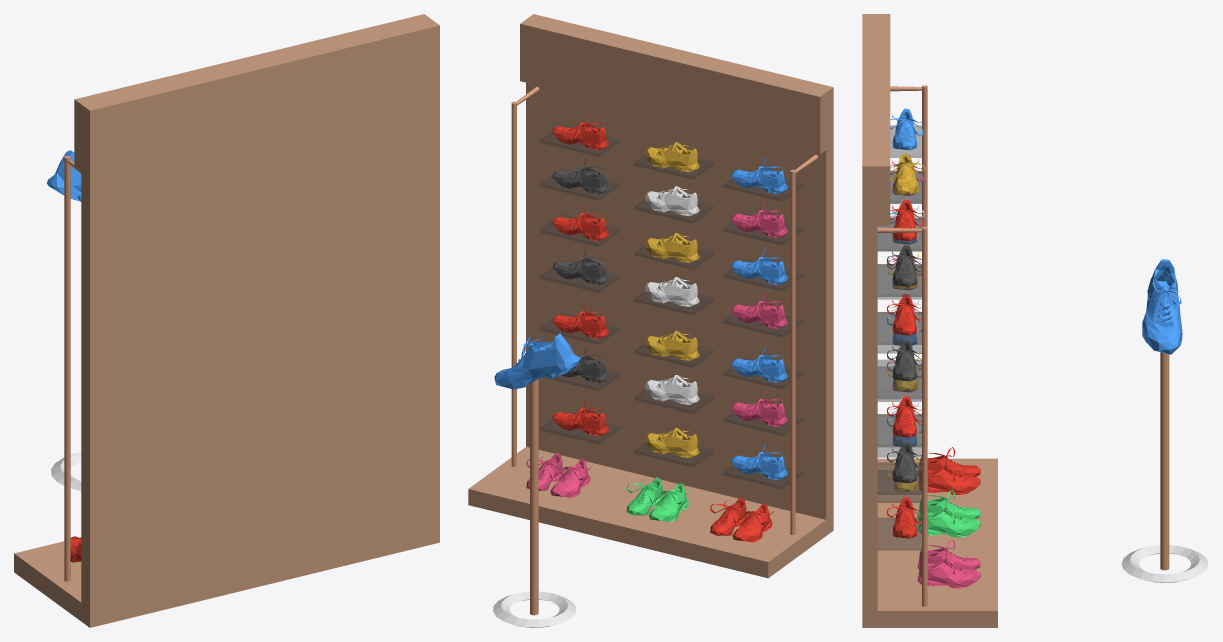
Rendered from Sports_shoes.fbx.
The picture shows the model from 3 angles, left to right: view 1: azimuth 30°, elevation 25°; view 2: azimuth 150°, elevation 25°; view 3: azimuth 270°, elevation 25°; orthographic projection. The views are drawn at different scales.
Visible parts, largest first — view 1: Cube.066, Cylinder.021, Sport_shoe_mannequin; view 2: Cube.066, PB170_Sneaker_Low.019, PB170_Sneaker_Low.001, PB170_Sneaker_Low.002, Sport_shoe_mannequin, PB170_Sneaker_Low.003, Cylinder.021, Cylinder.020, Cube.070, Cube.067, Cube.073, Cube.072 (+6 smaller); view 3: Cube.066, Sport_shoe_mannequin, PB170_Sneaker_Low.019, Cylinder.020, PB170_Sneaker_Low.002, PB170_Sneaker_Low.001, Cube.070, Cube.069, Cube.068, Cube.072, PB170_Sneaker_Low.013, Cube.067 (+6 smaller).
Boxes of the visible parts, <box> form: Cube.066: <box>14,14,439,627</box>; Cylinder.021: <box>64,155,81,581</box>; Sport_shoe_mannequin: <box>47,150,81,490</box>; Cube.066: <box>468,14,833,578</box>; PB170_Sneaker_Low.019: <box>552,114,787,238</box>; PB170_Sneaker_Low.001: <box>552,204,787,328</box>; PB170_Sneaker_Low.002: <box>552,302,787,426</box>; Sport_shoe_mannequin: <box>493,333,580,627</box>; PB170_Sneaker_Low.003: <box>552,399,787,479</box>; Cylinder.021: <box>790,154,818,534</box>; Cylinder.020: <box>511,86,539,466</box>; Cube.070: <box>540,419,803,488</box>; Cube.067: <box>540,260,803,337</box>; Cube.073: <box>540,124,803,201</box>; Cube.072: <box>540,168,803,245</box>; Cube.066: <box>862,14,997,627</box>; Sport_shoe_mannequin: <box>1121,259,1208,582</box>; PB170_Sneaker_Low.019: <box>887,108,925,286</box>; Cylinder.020: <box>877,226,927,606</box>; PB170_Sneaker_Low.002: <box>886,312,921,483</box>; PB170_Sneaker_Low.001: <box>886,208,924,381</box>; Cube.070: <box>878,447,921,550</box>; Cube.069: <box>878,393,921,494</box>; Cube.068: <box>878,345,921,446</box>; Cube.072: <box>878,171,921,296</box>; PB170_Sneaker_Low.013: <box>917,539,980,588</box>; Cube.067: <box>878,297,921,392</box>.
Size of the model in its own units: 218 by 318 by 210.
